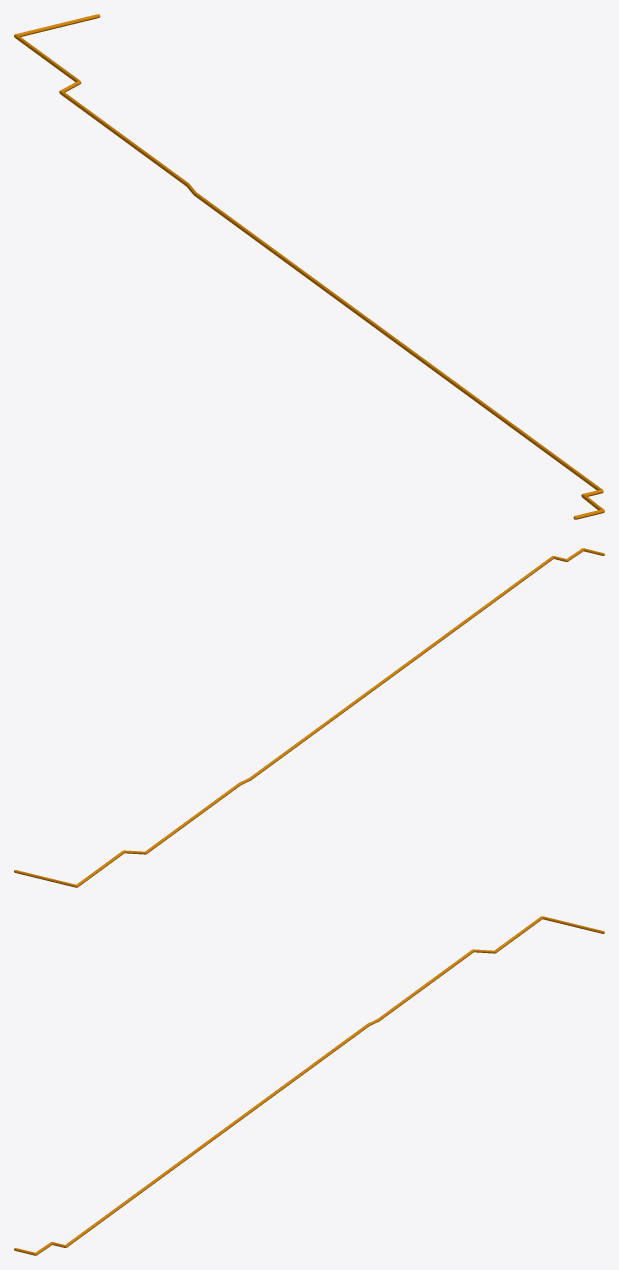
3 renders of one model, top to bottom at view 1: azimuth 30°, elevation 25°; view 2: azimuth 150°, elevation 25°; view 3: azimuth 330°, elevation 25°, orthographic. The views are drawn at different scales.
Size of the model in its own units: 874 by 20 by 6018.
